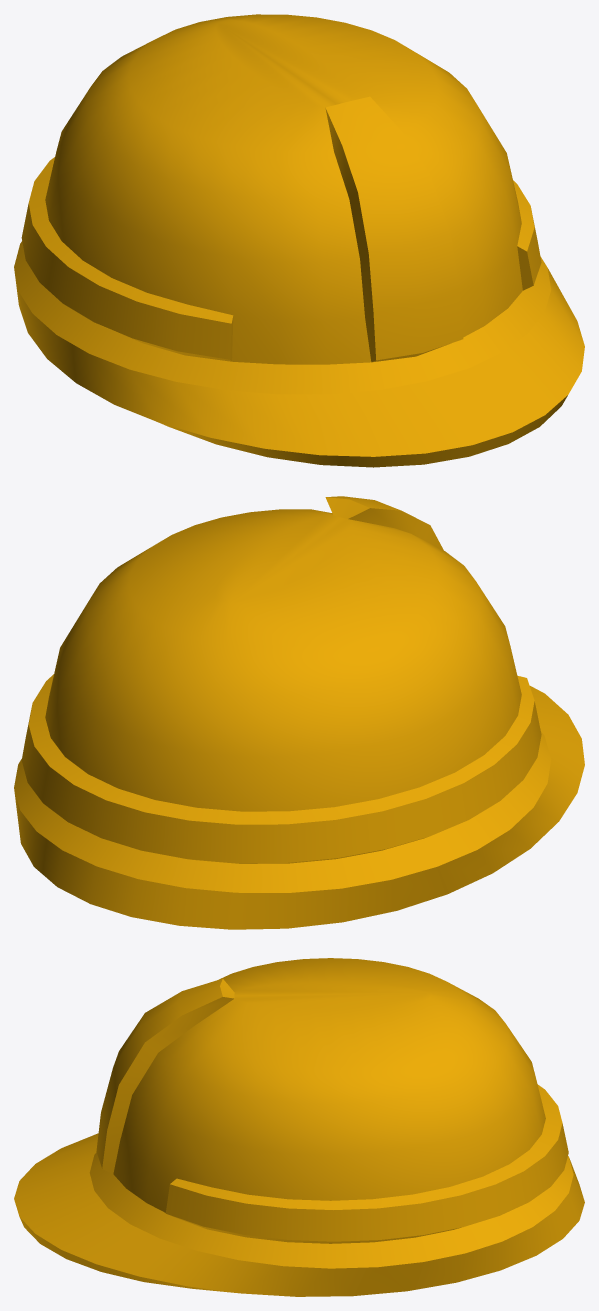
Rendered from helmet.fbx.
3 views of the same model, one above another, from view 1: azimuth 30°, elevation 25°; view 2: azimuth 150°, elevation 25°; view 3: azimuth 270°, elevation 25° (orthographic). The views are drawn at different scales.
Visible parts, largest first — view 1: Circle.014; view 2: Circle.014; view 3: Circle.014.
Part boxes in pixels (x1,y1,x2,y2): Circle.014: [14, 14, 584, 467]; Circle.014: [14, 496, 584, 929]; Circle.014: [14, 958, 584, 1296].
Bounding box in the file's own units: 1.64 × 0.9213 × 2.13.
